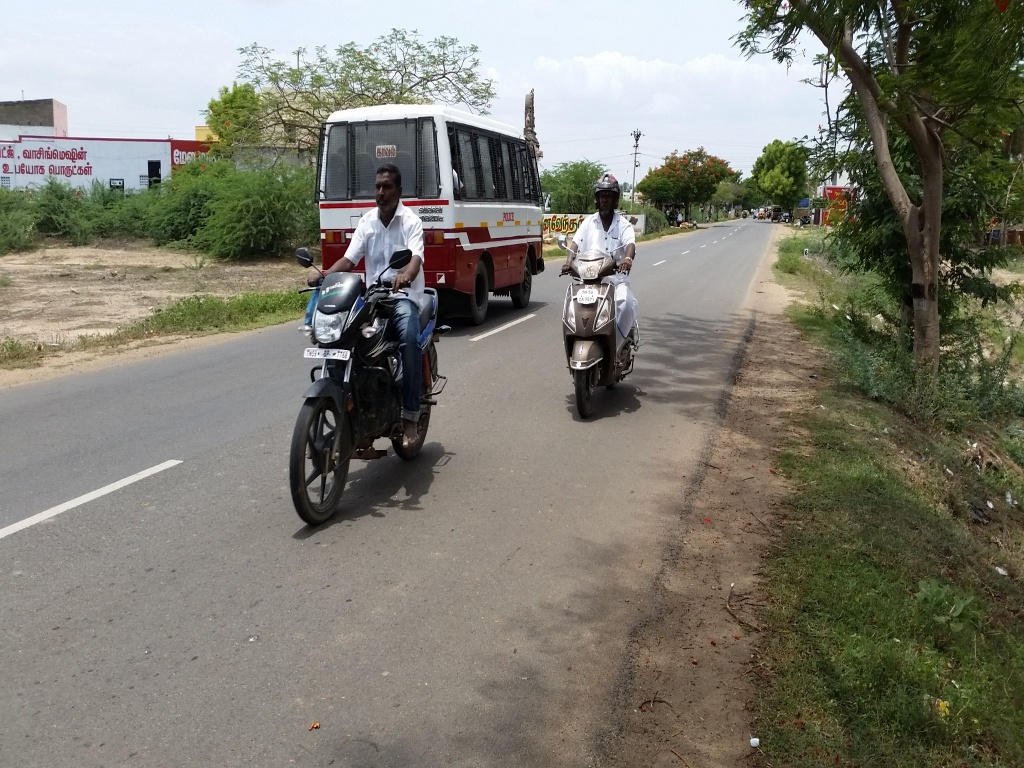biker: (271, 133, 481, 536), (542, 139, 667, 428)
helmet: (588, 161, 628, 225)
nohelmet: (368, 160, 410, 227)
